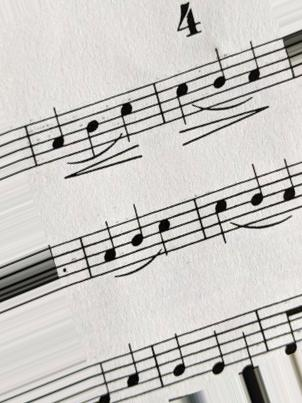note: (242, 162, 270, 223), (203, 51, 236, 102), (205, 193, 237, 245), (272, 156, 302, 208), (166, 75, 198, 123), (78, 107, 107, 158), (94, 219, 124, 268), (118, 343, 146, 394), (241, 40, 269, 90), (125, 206, 148, 265), (202, 328, 230, 376), (152, 210, 178, 261), (167, 335, 193, 383), (113, 95, 144, 133), (46, 106, 70, 155)
